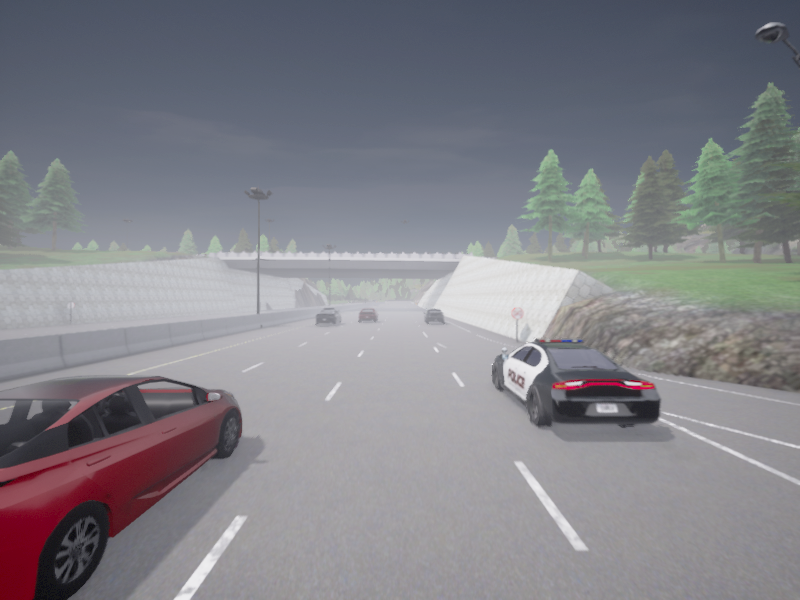vehicle: (0, 375, 242, 599), (492, 339, 660, 426), (316, 308, 340, 324), (423, 309, 443, 323), (359, 308, 377, 321)
